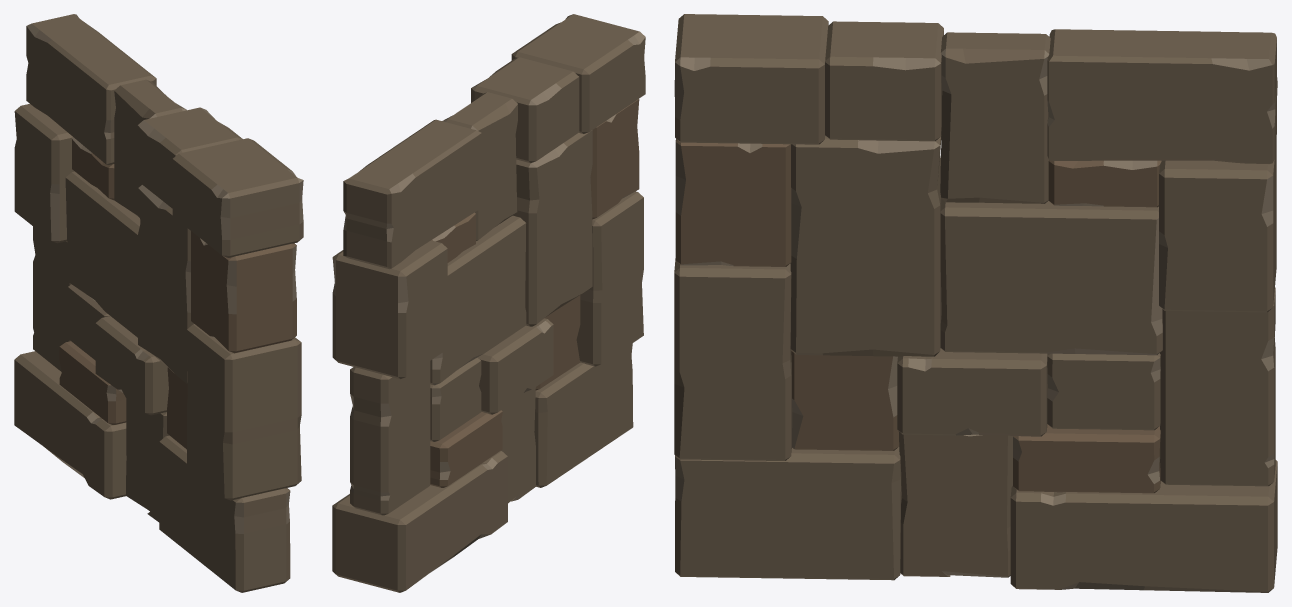
The model's file is entrada_wall_east_5_lev3.glb.
The picture shows the model from 3 angles, left to right: view 1: azimuth 30°, elevation 25°; view 2: azimuth 150°, elevation 25°; view 3: azimuth 270°, elevation 25°; orthographic projection. The views are drawn at different scales.
Visible parts, largest first — view 1: entrada_wall_east_5_lev3; view 2: entrada_wall_east_5_lev3; view 3: entrada_wall_east_5_lev3.
Boxes of the visible parts, x1,y1,x2,y2 form: entrada_wall_east_5_lev3: [14, 14, 303, 592]; entrada_wall_east_5_lev3: [332, 14, 645, 592]; entrada_wall_east_5_lev3: [674, 14, 1277, 592].
Size of the model in its own units: 1.41 by 5.92 by 6.13.
